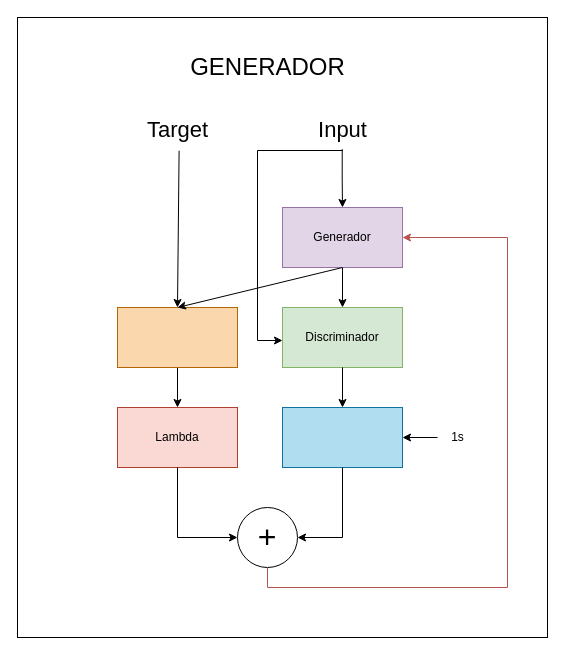
Image size: 565x655. Some labels were removed from this diagram. The centre of each missing label's shape, as x and y in pixels:
Entropía Cruzada Sigmoidea: the point at 342,437
MAE: the point at 177,337
